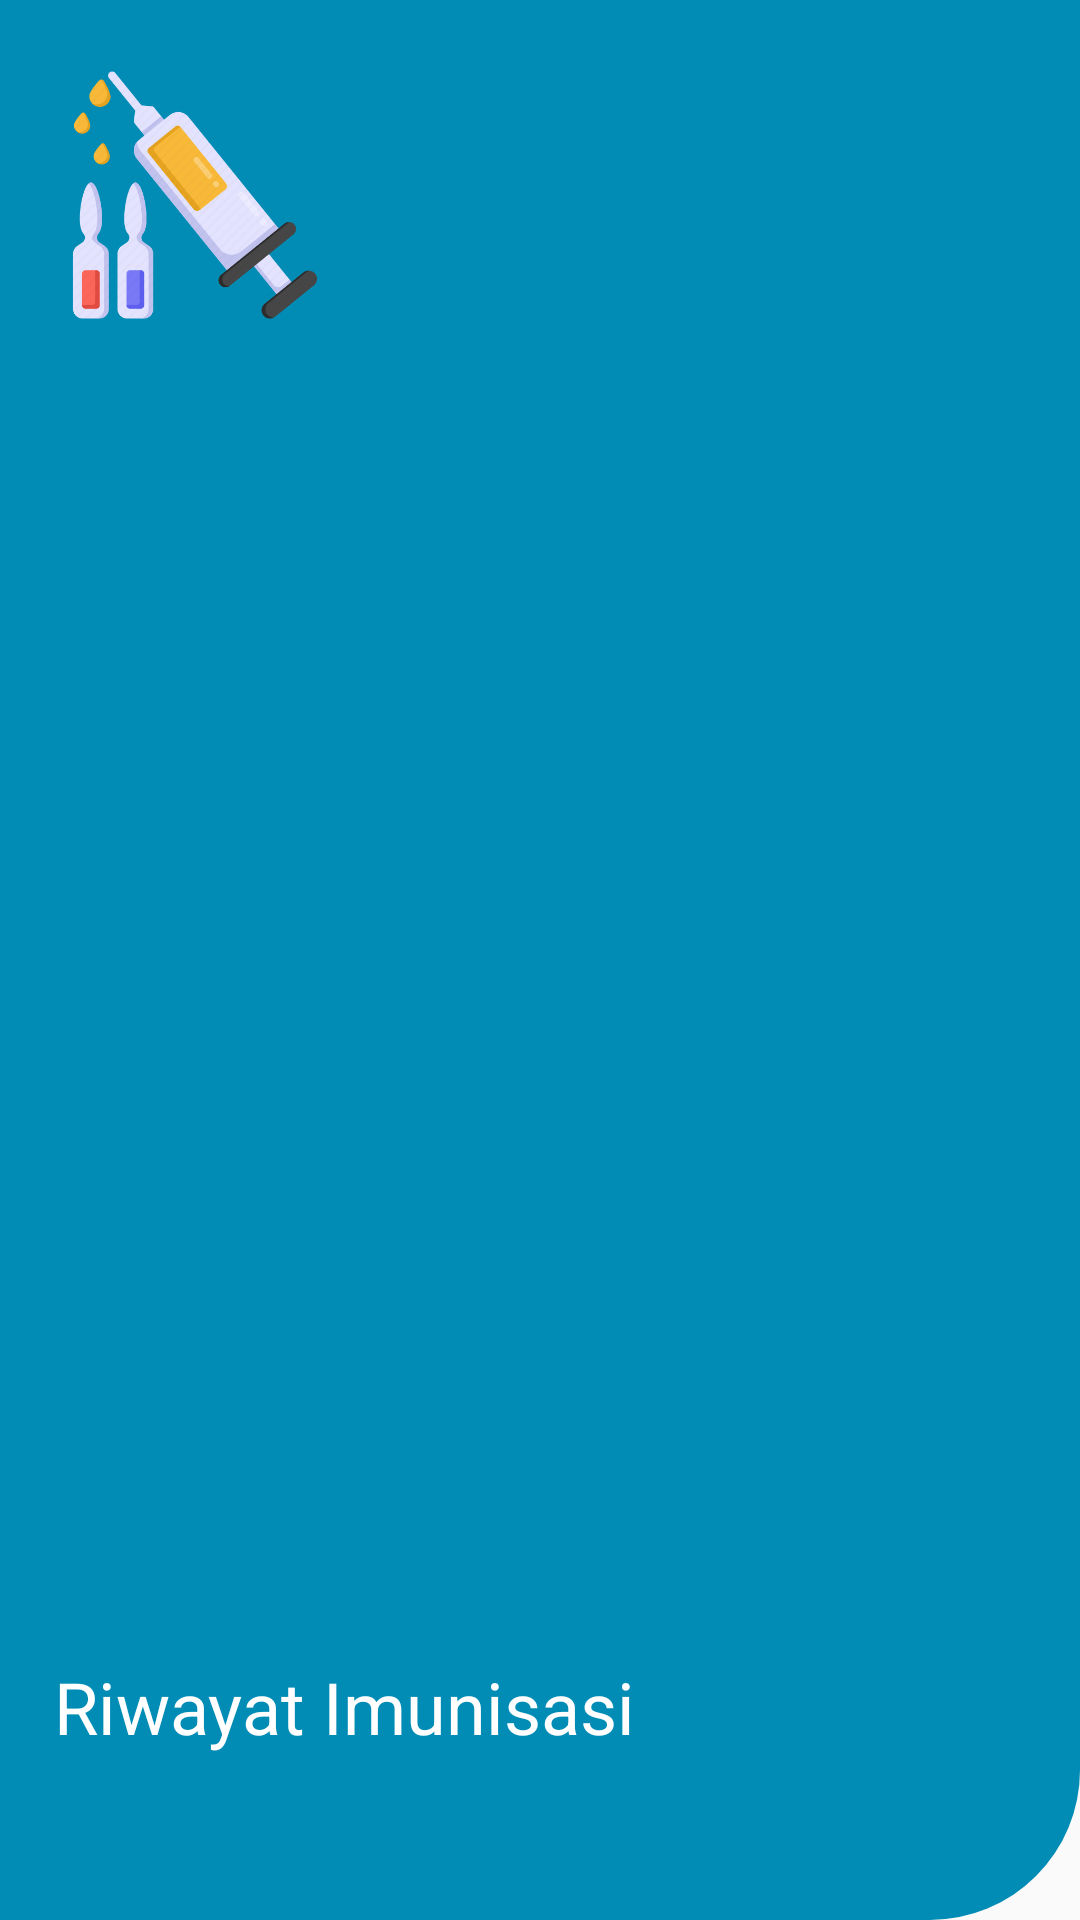

Where icons sit on this 1080*1920 app screen, as bbox=(x1, y1, x2, y2):
imunisasi: bbox=(73, 71, 317, 319)
